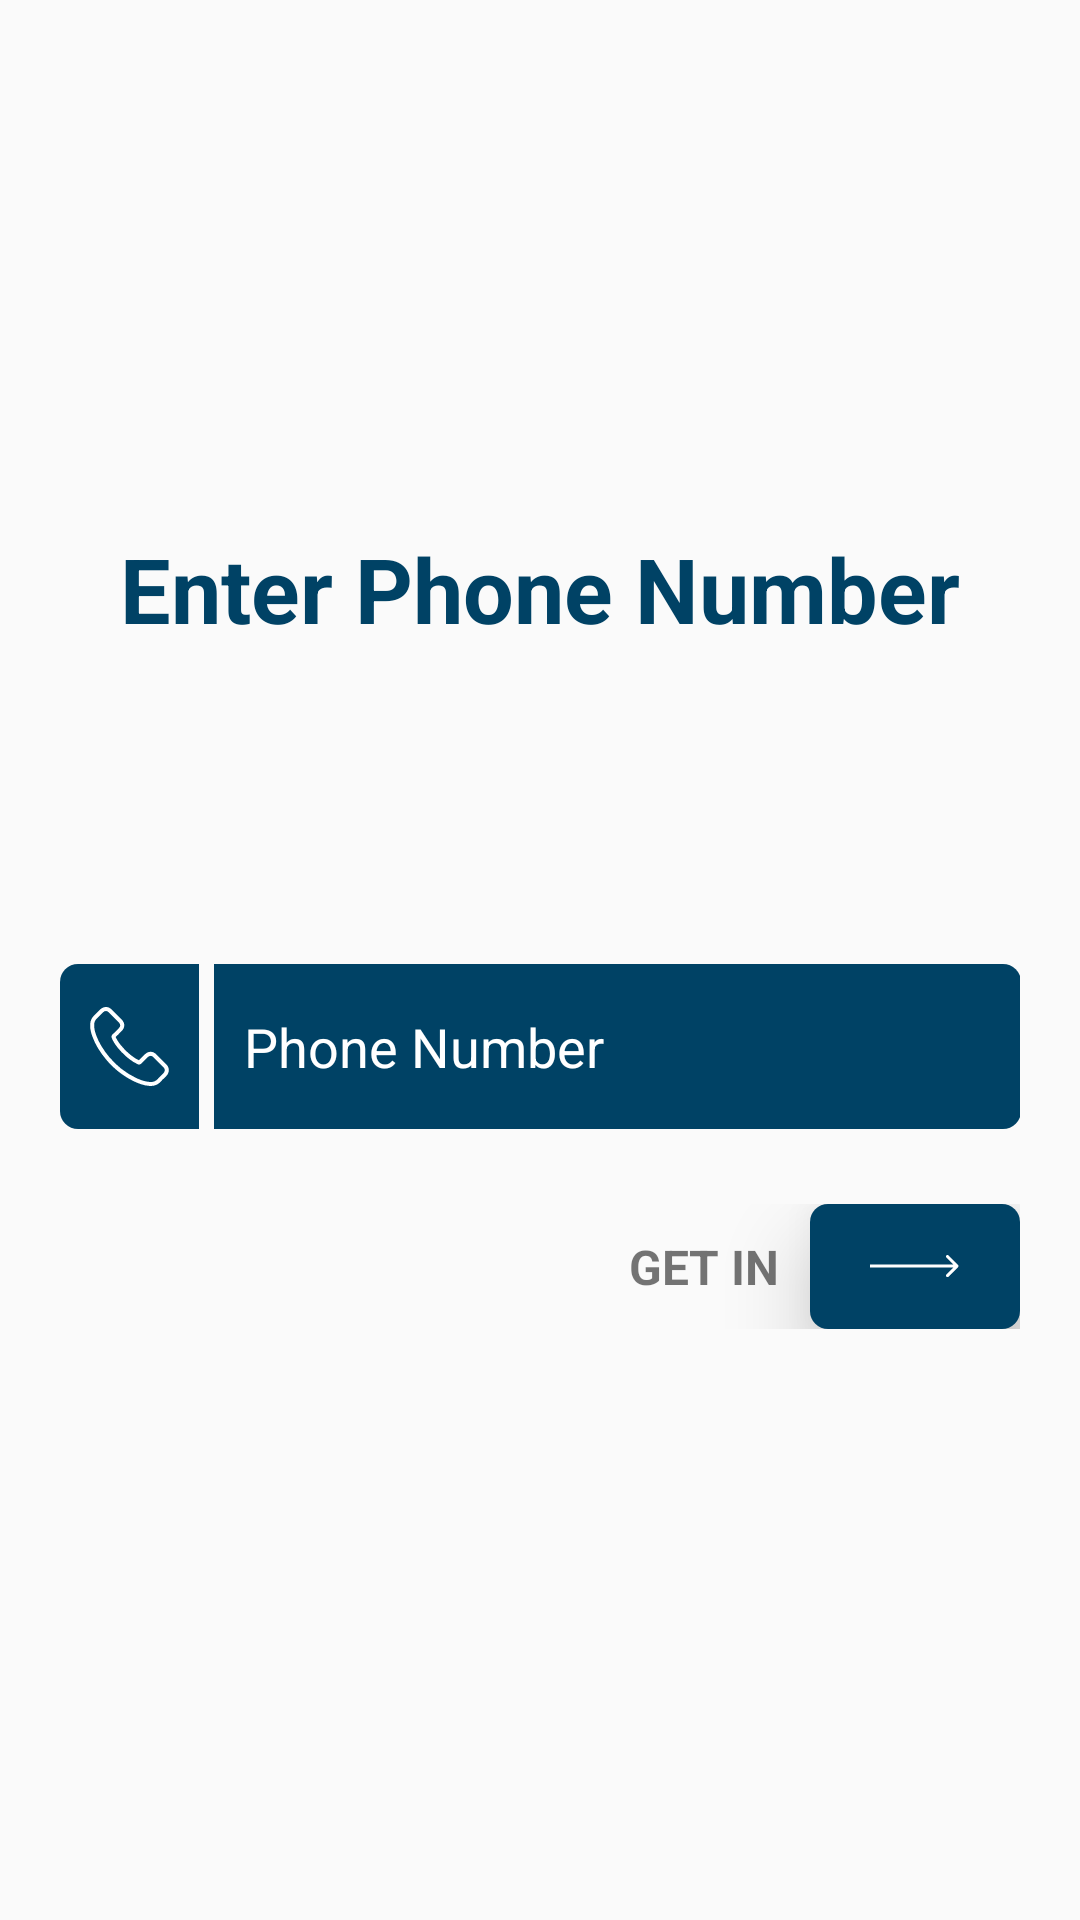

Screen size 1080x1920. Icon name, then its center in pixels as point (x, y):
arrowrightsvg: point (915, 1266)
telephone: point (129, 1046)
